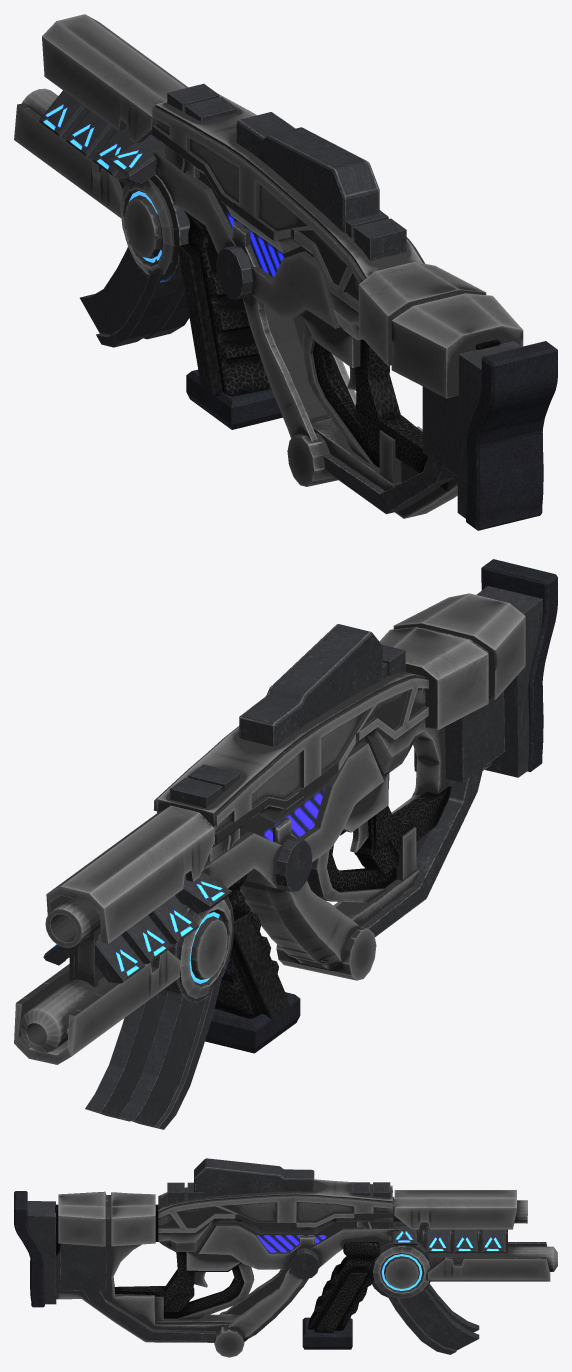
File: Gun.fbx
The picture shows the model from 3 angles, top to bottom: view 1: azimuth 30°, elevation 25°; view 2: azimuth 150°, elevation 25°; view 3: azimuth 270°, elevation 25°; orthographic projection. The views are drawn at different scales.
Parts seen in each view (by area): view 1: polySurface113.001, polySurface113.002, polySurface113; view 2: polySurface113.001, polySurface113, polySurface113.002; view 3: polySurface113.001, polySurface113.002, polySurface113.
Part boxes in pixels (x1,y1,x2,y2): polySurface113.001: (152,83,424,490); polySurface113.002: (287,261,557,530); polySurface113: (14,14,189,347); polySurface113.001: (153,624,428,1053); polySurface113: (14,805,234,1129); polySurface113.002: (276,559,557,980); polySurface113.001: (155,1158,400,1349); polySurface113.002: (14,1191,254,1357); polySurface113: (372,1190,557,1354).
Bounding box in the file's own units: 23.86 × 74.99 × 200.
Materials: 3 (3 with a texture image).
